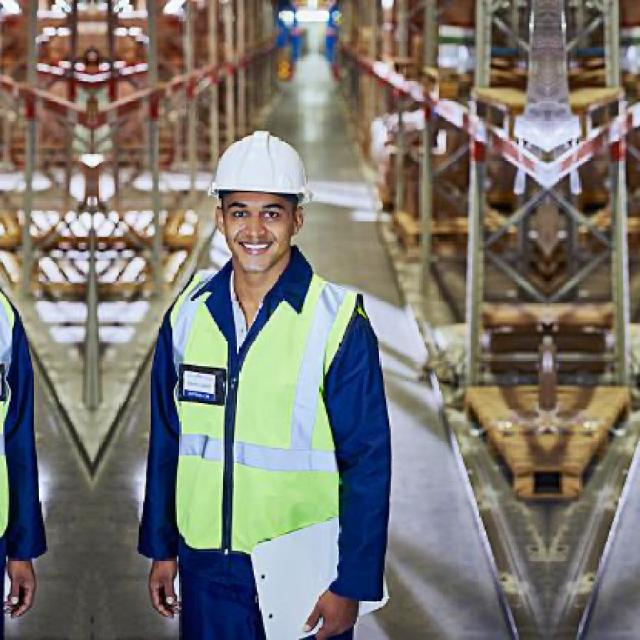helmet: (202, 123, 324, 289)
